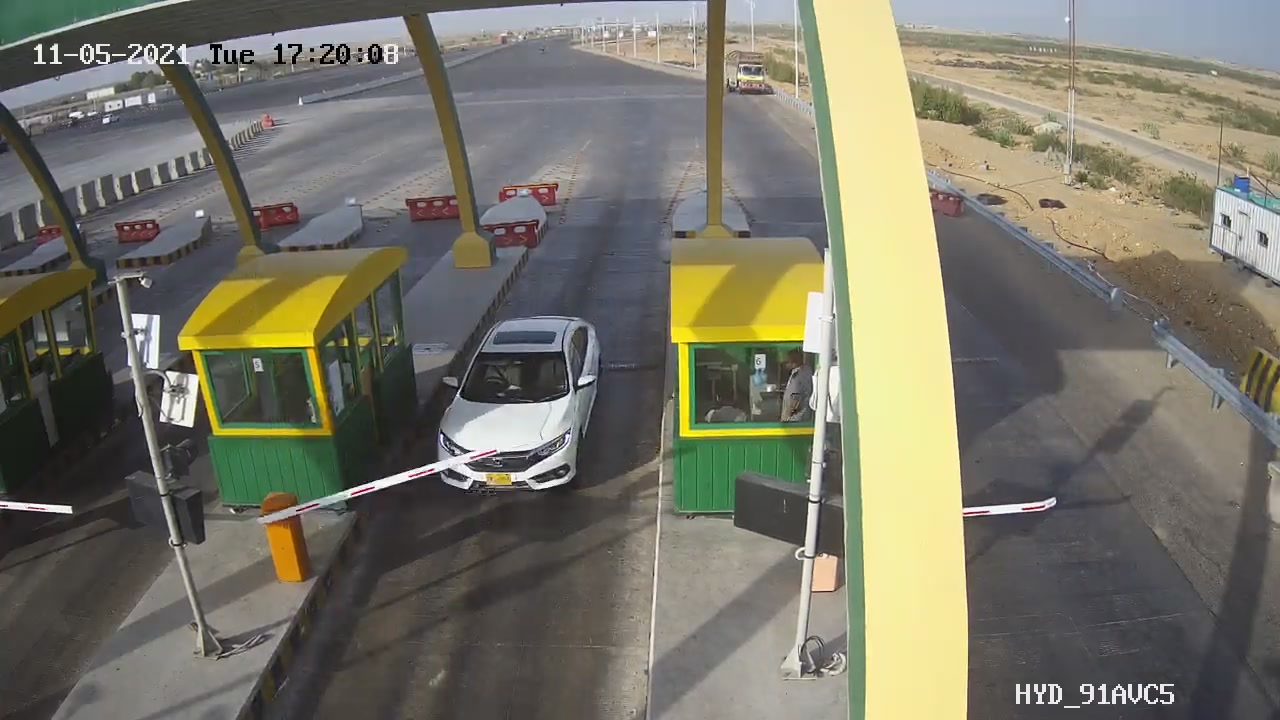F1: (417, 300, 624, 511)
